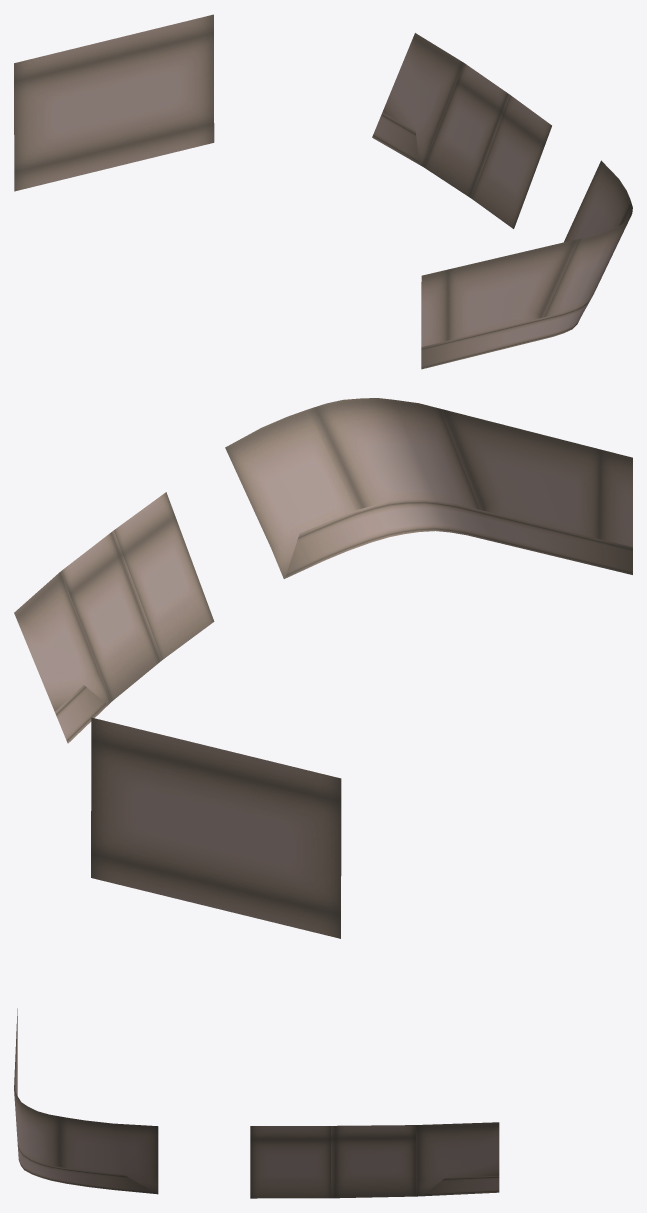
The model's file is p6_hijacked_back_cabin_glass_lod0.glb.
3 renders of one model, top to bottom at view 1: azimuth 30°, elevation 25°; view 2: azimuth 150°, elevation 25°; view 3: azimuth 270°, elevation 25°, orthographic. The views are drawn at different scales.
Parts seen in each view (by area): view 1: surf0; view 2: surf0; view 3: surf0.
Part boxes in pixels (<box>): surf0: <box>14,14,632,369</box>; surf0: <box>14,398,632,938</box>; surf0: <box>14,1008,499,1198</box>.
Bounding box in the file's own units: 395 × 143 × 648.
